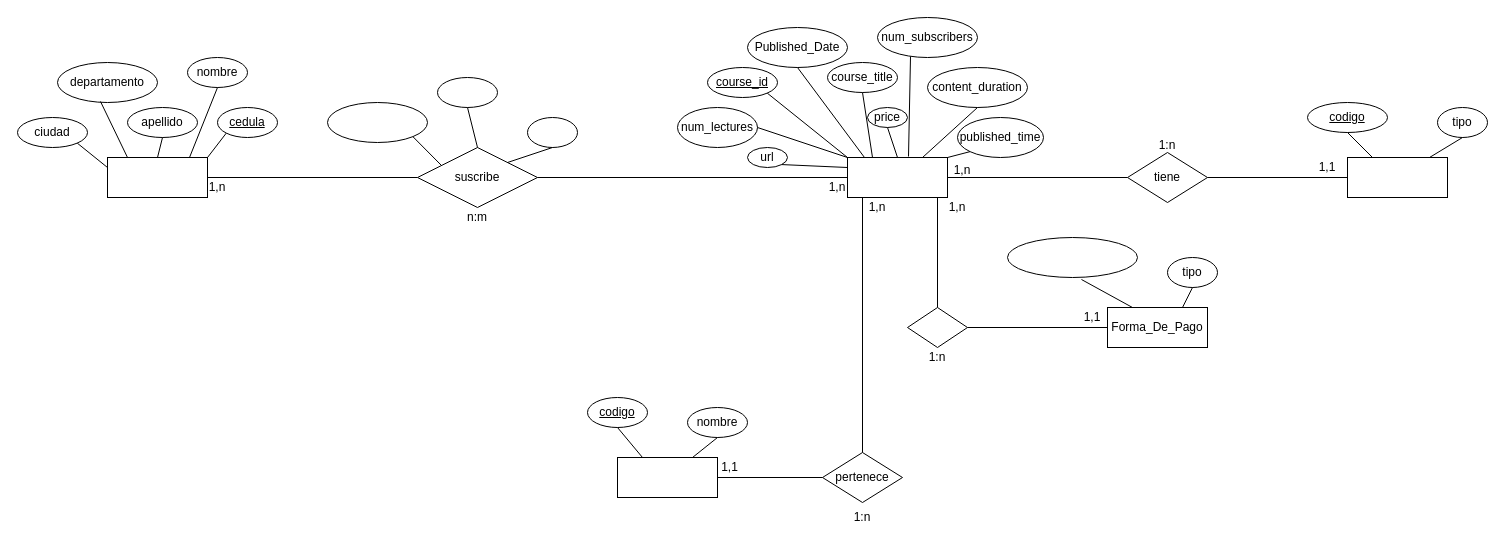
This 1505x545 diagram has some shape labels left out. The shapes that lost their labels are listed below. From the top down, each one's centre as x and y in pixels, then its label:
the point at 467,92: id_curso
the point at 377,122: Cedula_usuario
the point at 552,132: toma
the point at 157,177: Usuario
the point at 897,177: Curso
the point at 1397,177: Nivel
the point at 1072,257: Codigo_Forma_Pago
the point at 937,327: es
the point at 667,477: Materia
